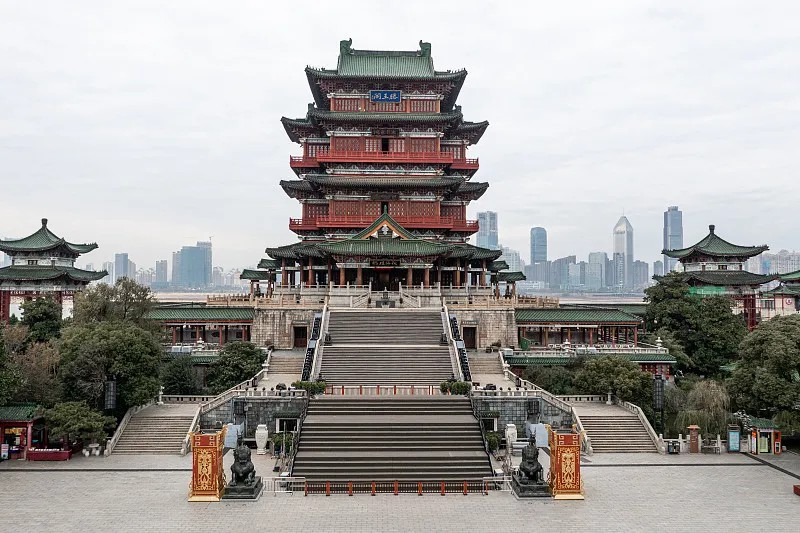Teng: (240, 39, 526, 295)
